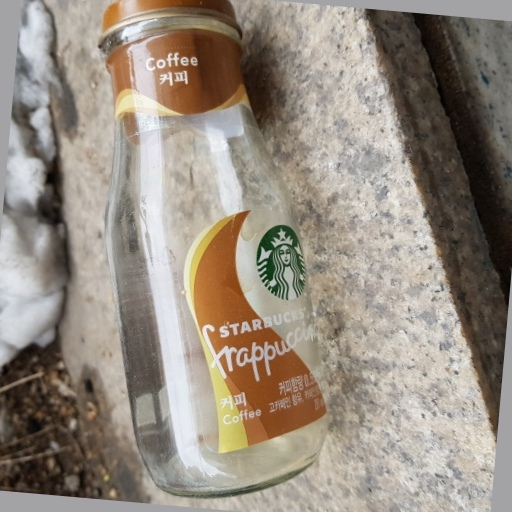Glass_4: (94, 2, 332, 497)
